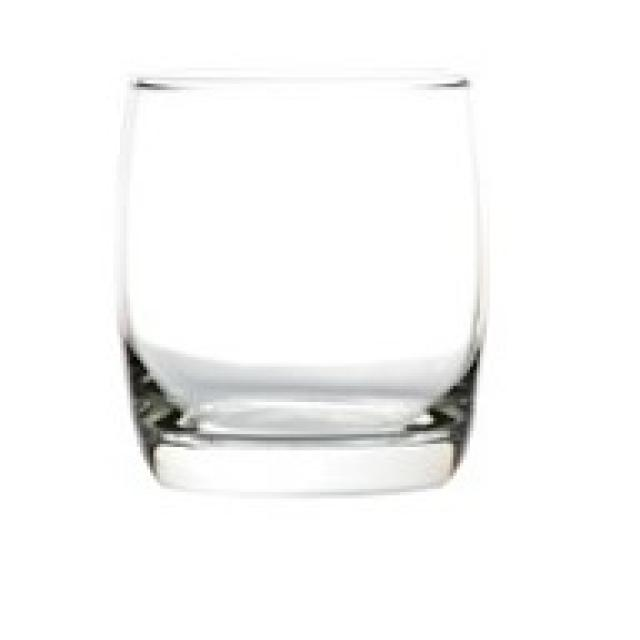electronic: (110, 58, 492, 494)
